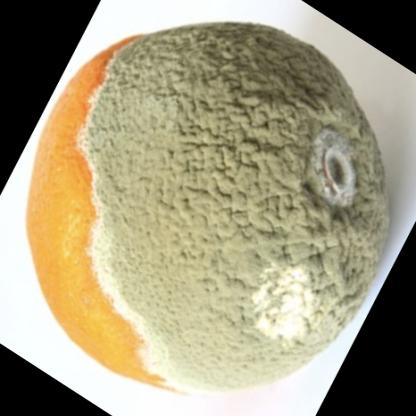rotten: (26, 24, 390, 368)
